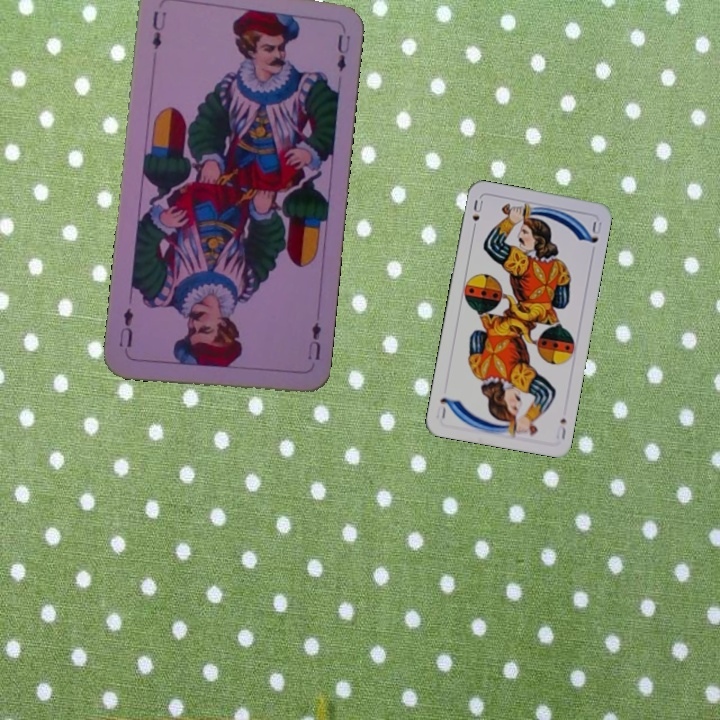EU: (148, 7, 169, 52), (303, 318, 323, 363)
SU: (468, 196, 486, 235), (552, 414, 569, 442)
